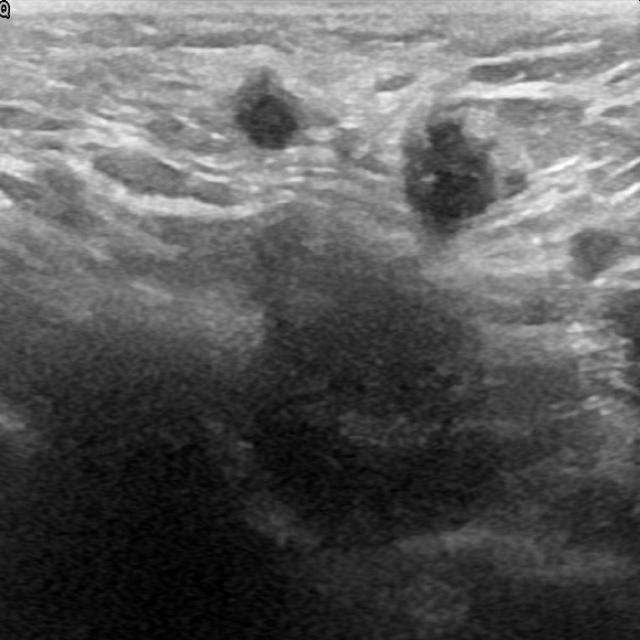Malignant: (399, 112, 502, 230)
